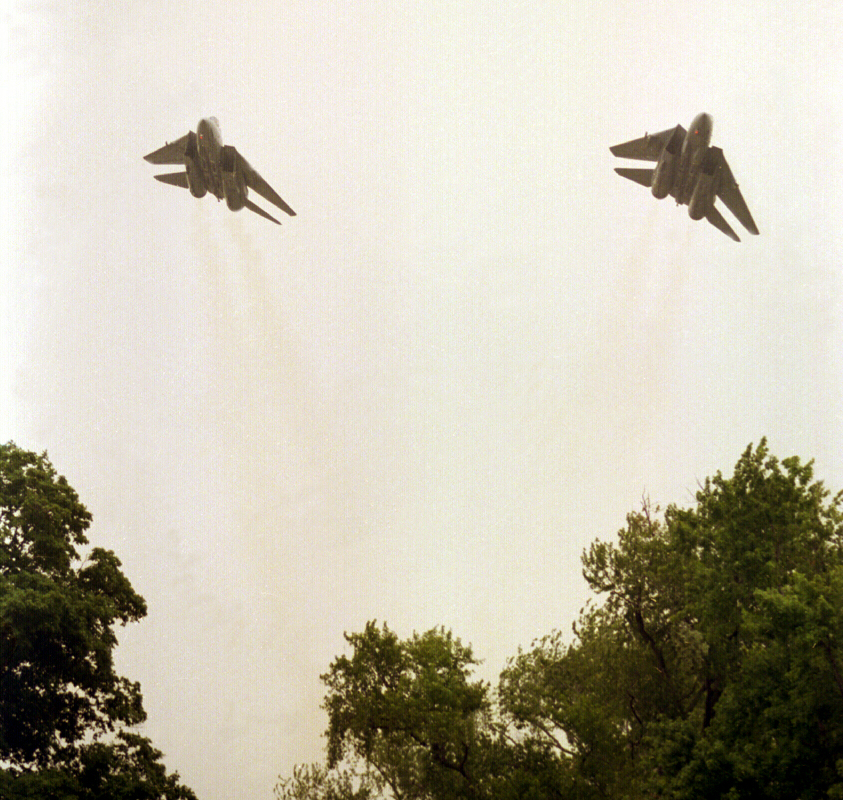F14: (609, 111, 760, 243), (142, 115, 298, 226)
